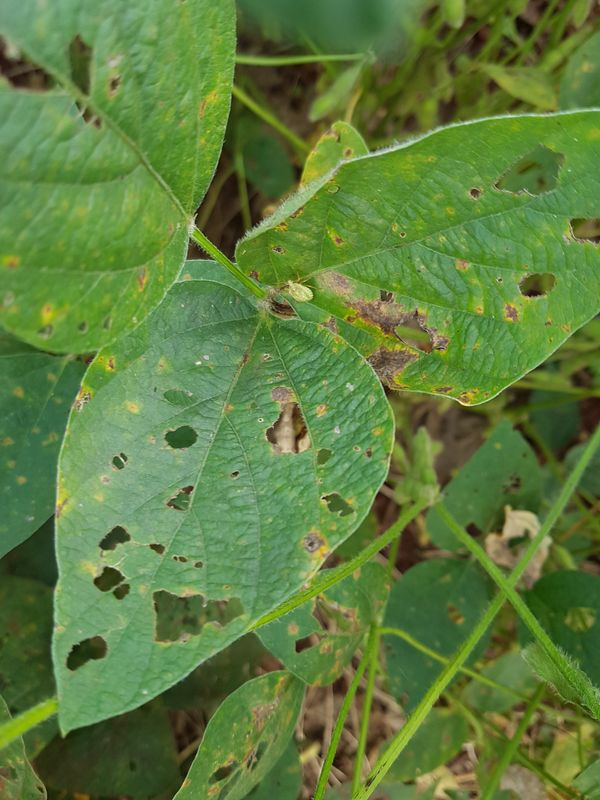Euschistus_heros_ninfa: (277, 272, 322, 313)
